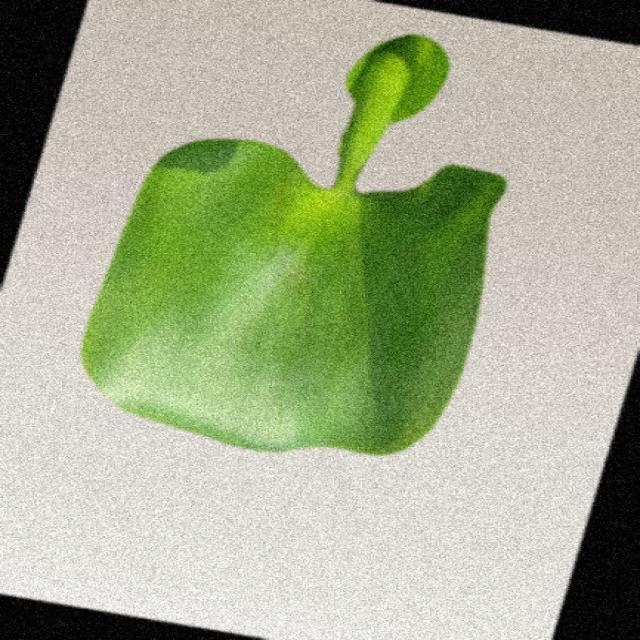daun sehat: (83, 35, 505, 455)
